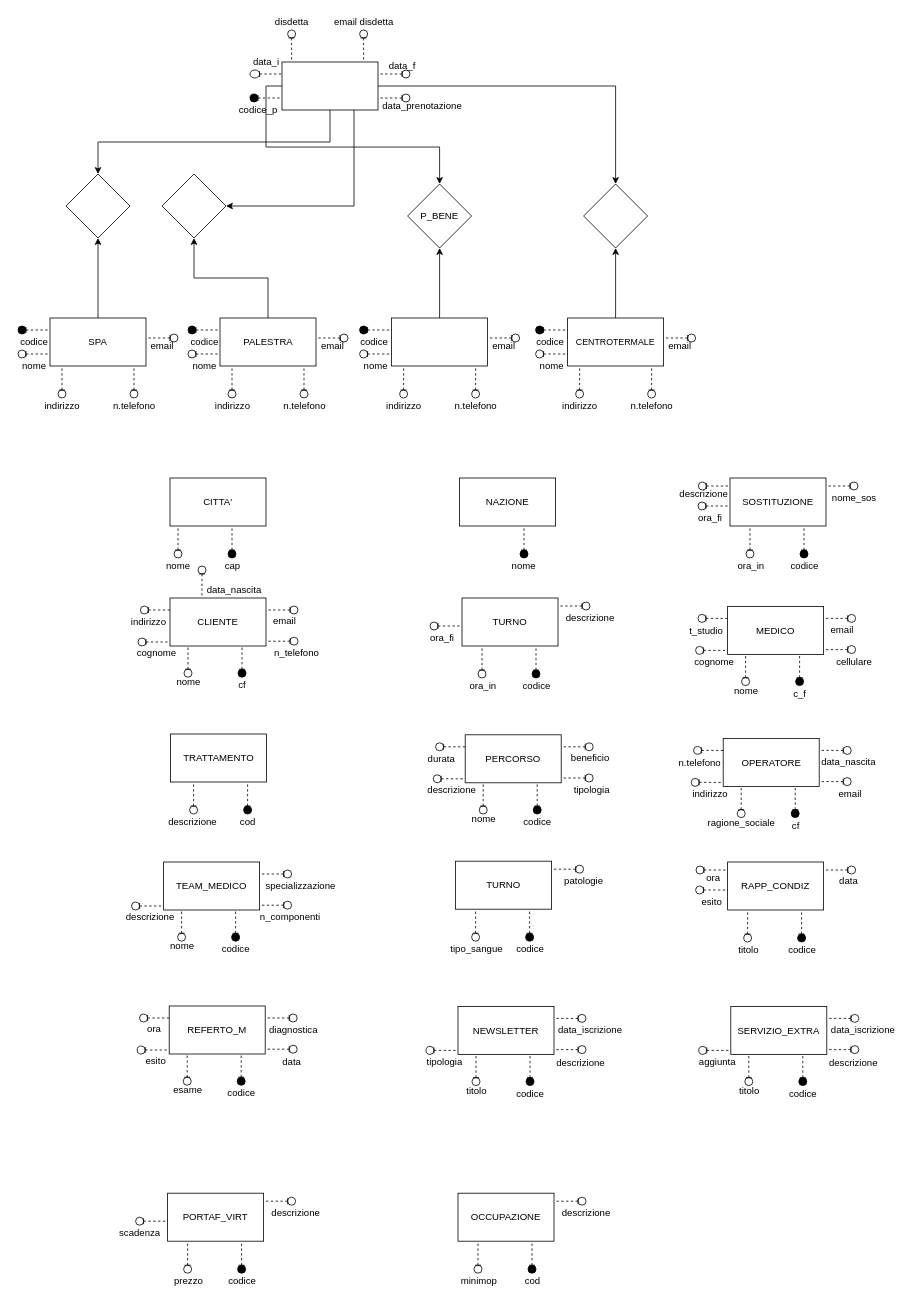
This 916x1302 diagram has some shape labels left out. The shapes that lost their labels are listed below. From the top down, each one's box as (x1, y1, x2, y2) in pixels, then its label:
(281, 61, 378, 110): PRENOTAZIONE
(65, 173, 130, 238): EFFETTUA
(161, 173, 226, 238): P_PALE
(583, 183, 648, 248): P_TERMA
(391, 317, 488, 366): CENTROBENESSERE
